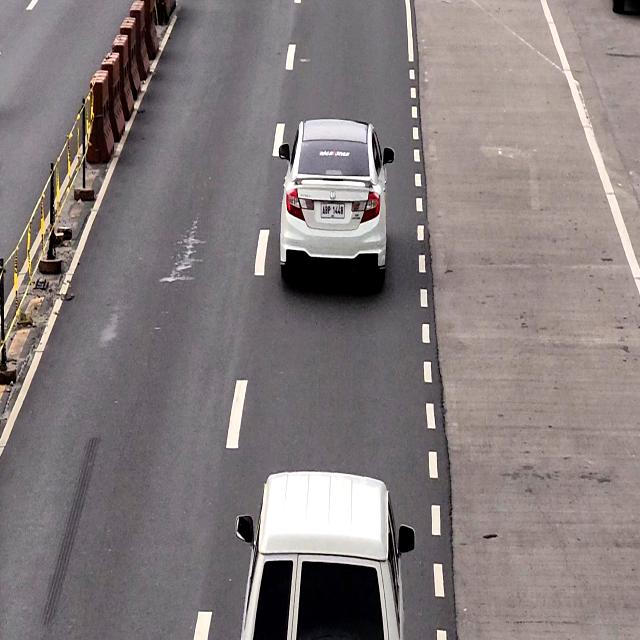Car: (239, 478, 408, 640), (277, 121, 385, 275)
License-Plate: (320, 200, 346, 221)
